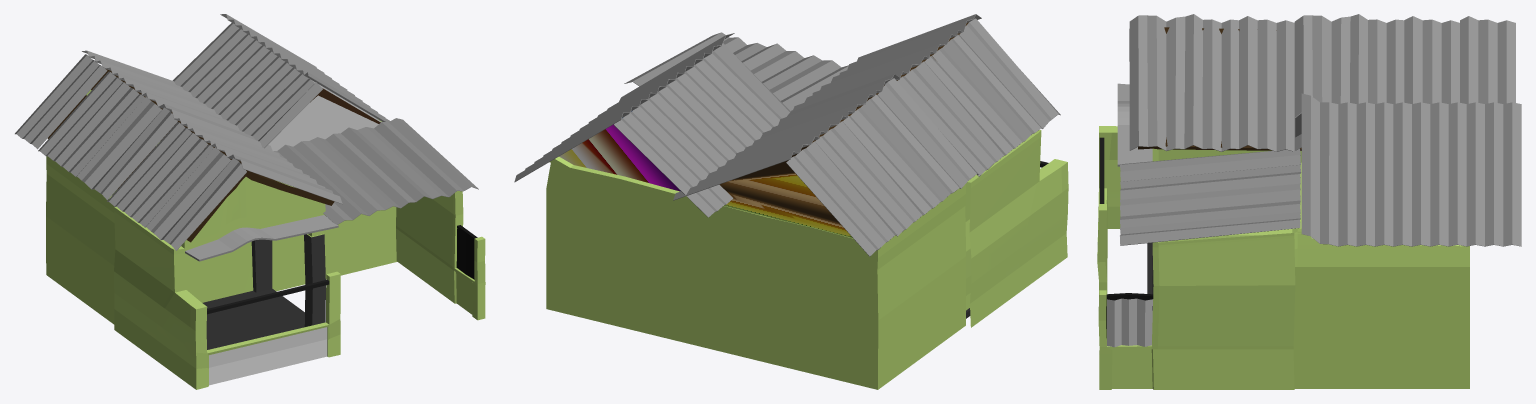
Rendered from rumah kontrakan.fbx.
The picture shows the model from 3 angles, left to right: view 1: azimuth 30°, elevation 25°; view 2: azimuth 150°, elevation 25°; view 3: azimuth 270°, elevation 25°; orthographic projection. The views are drawn at different scales.
Visible parts, largest first — view 1: Cube.136; view 2: Cube.136; view 3: Cube.136.
Boxes of the visible parts, x1,y1,x2,y2 form: Cube.136: [15, 14, 485, 389]; Cube.136: [514, 14, 1068, 389]; Cube.136: [1097, 14, 1521, 389].
Size of the model in its own units: 872 by 562 by 883.
